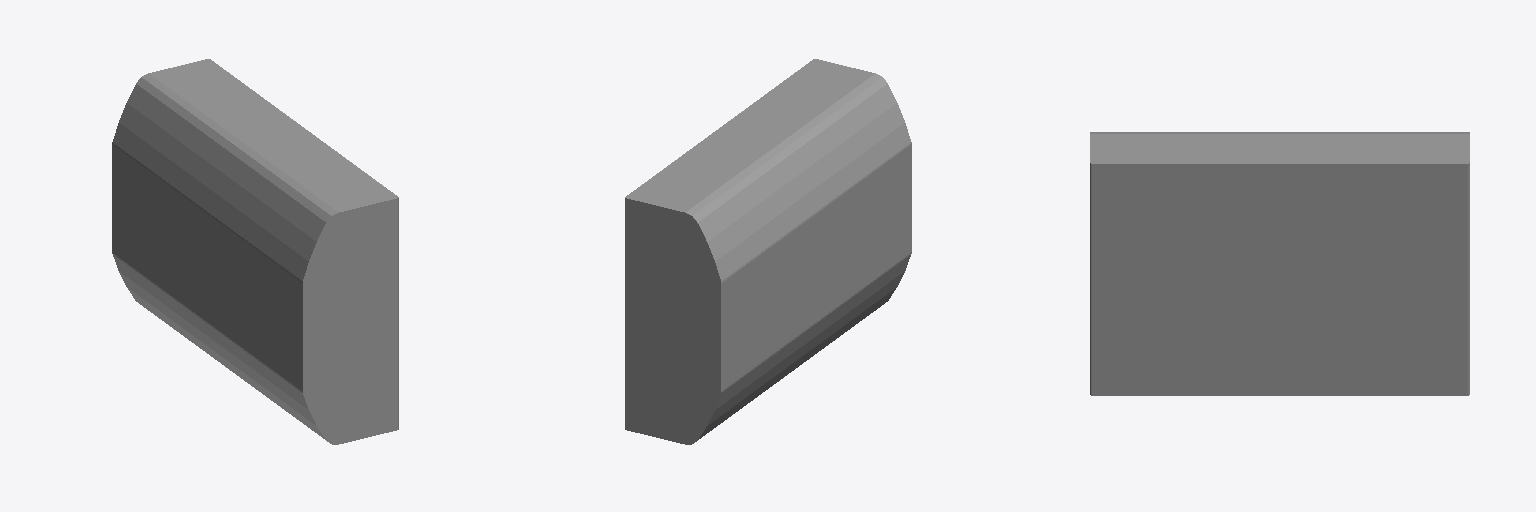
File: torso_fixed_link.obj
3 views of the same model, side by side, from view 1: azimuth 30°, elevation 25°; view 2: azimuth 150°, elevation 25°; view 3: azimuth 270°, elevation 25° (orthographic).
Parts seen in each view (by area): view 1: torso_fixed_link_torso_fixed_link.001; view 2: torso_fixed_link_torso_fixed_link.001; view 3: torso_fixed_link_torso_fixed_link.001.
Part boxes in pixels (bbox=[...]): torso_fixed_link_torso_fixed_link.001: bbox=[112, 59, 398, 444]; torso_fixed_link_torso_fixed_link.001: bbox=[625, 59, 911, 444]; torso_fixed_link_torso_fixed_link.001: bbox=[1090, 132, 1469, 395].
Bounding box in the file's own units: 0.1362 × 0.3107 × 0.4619.